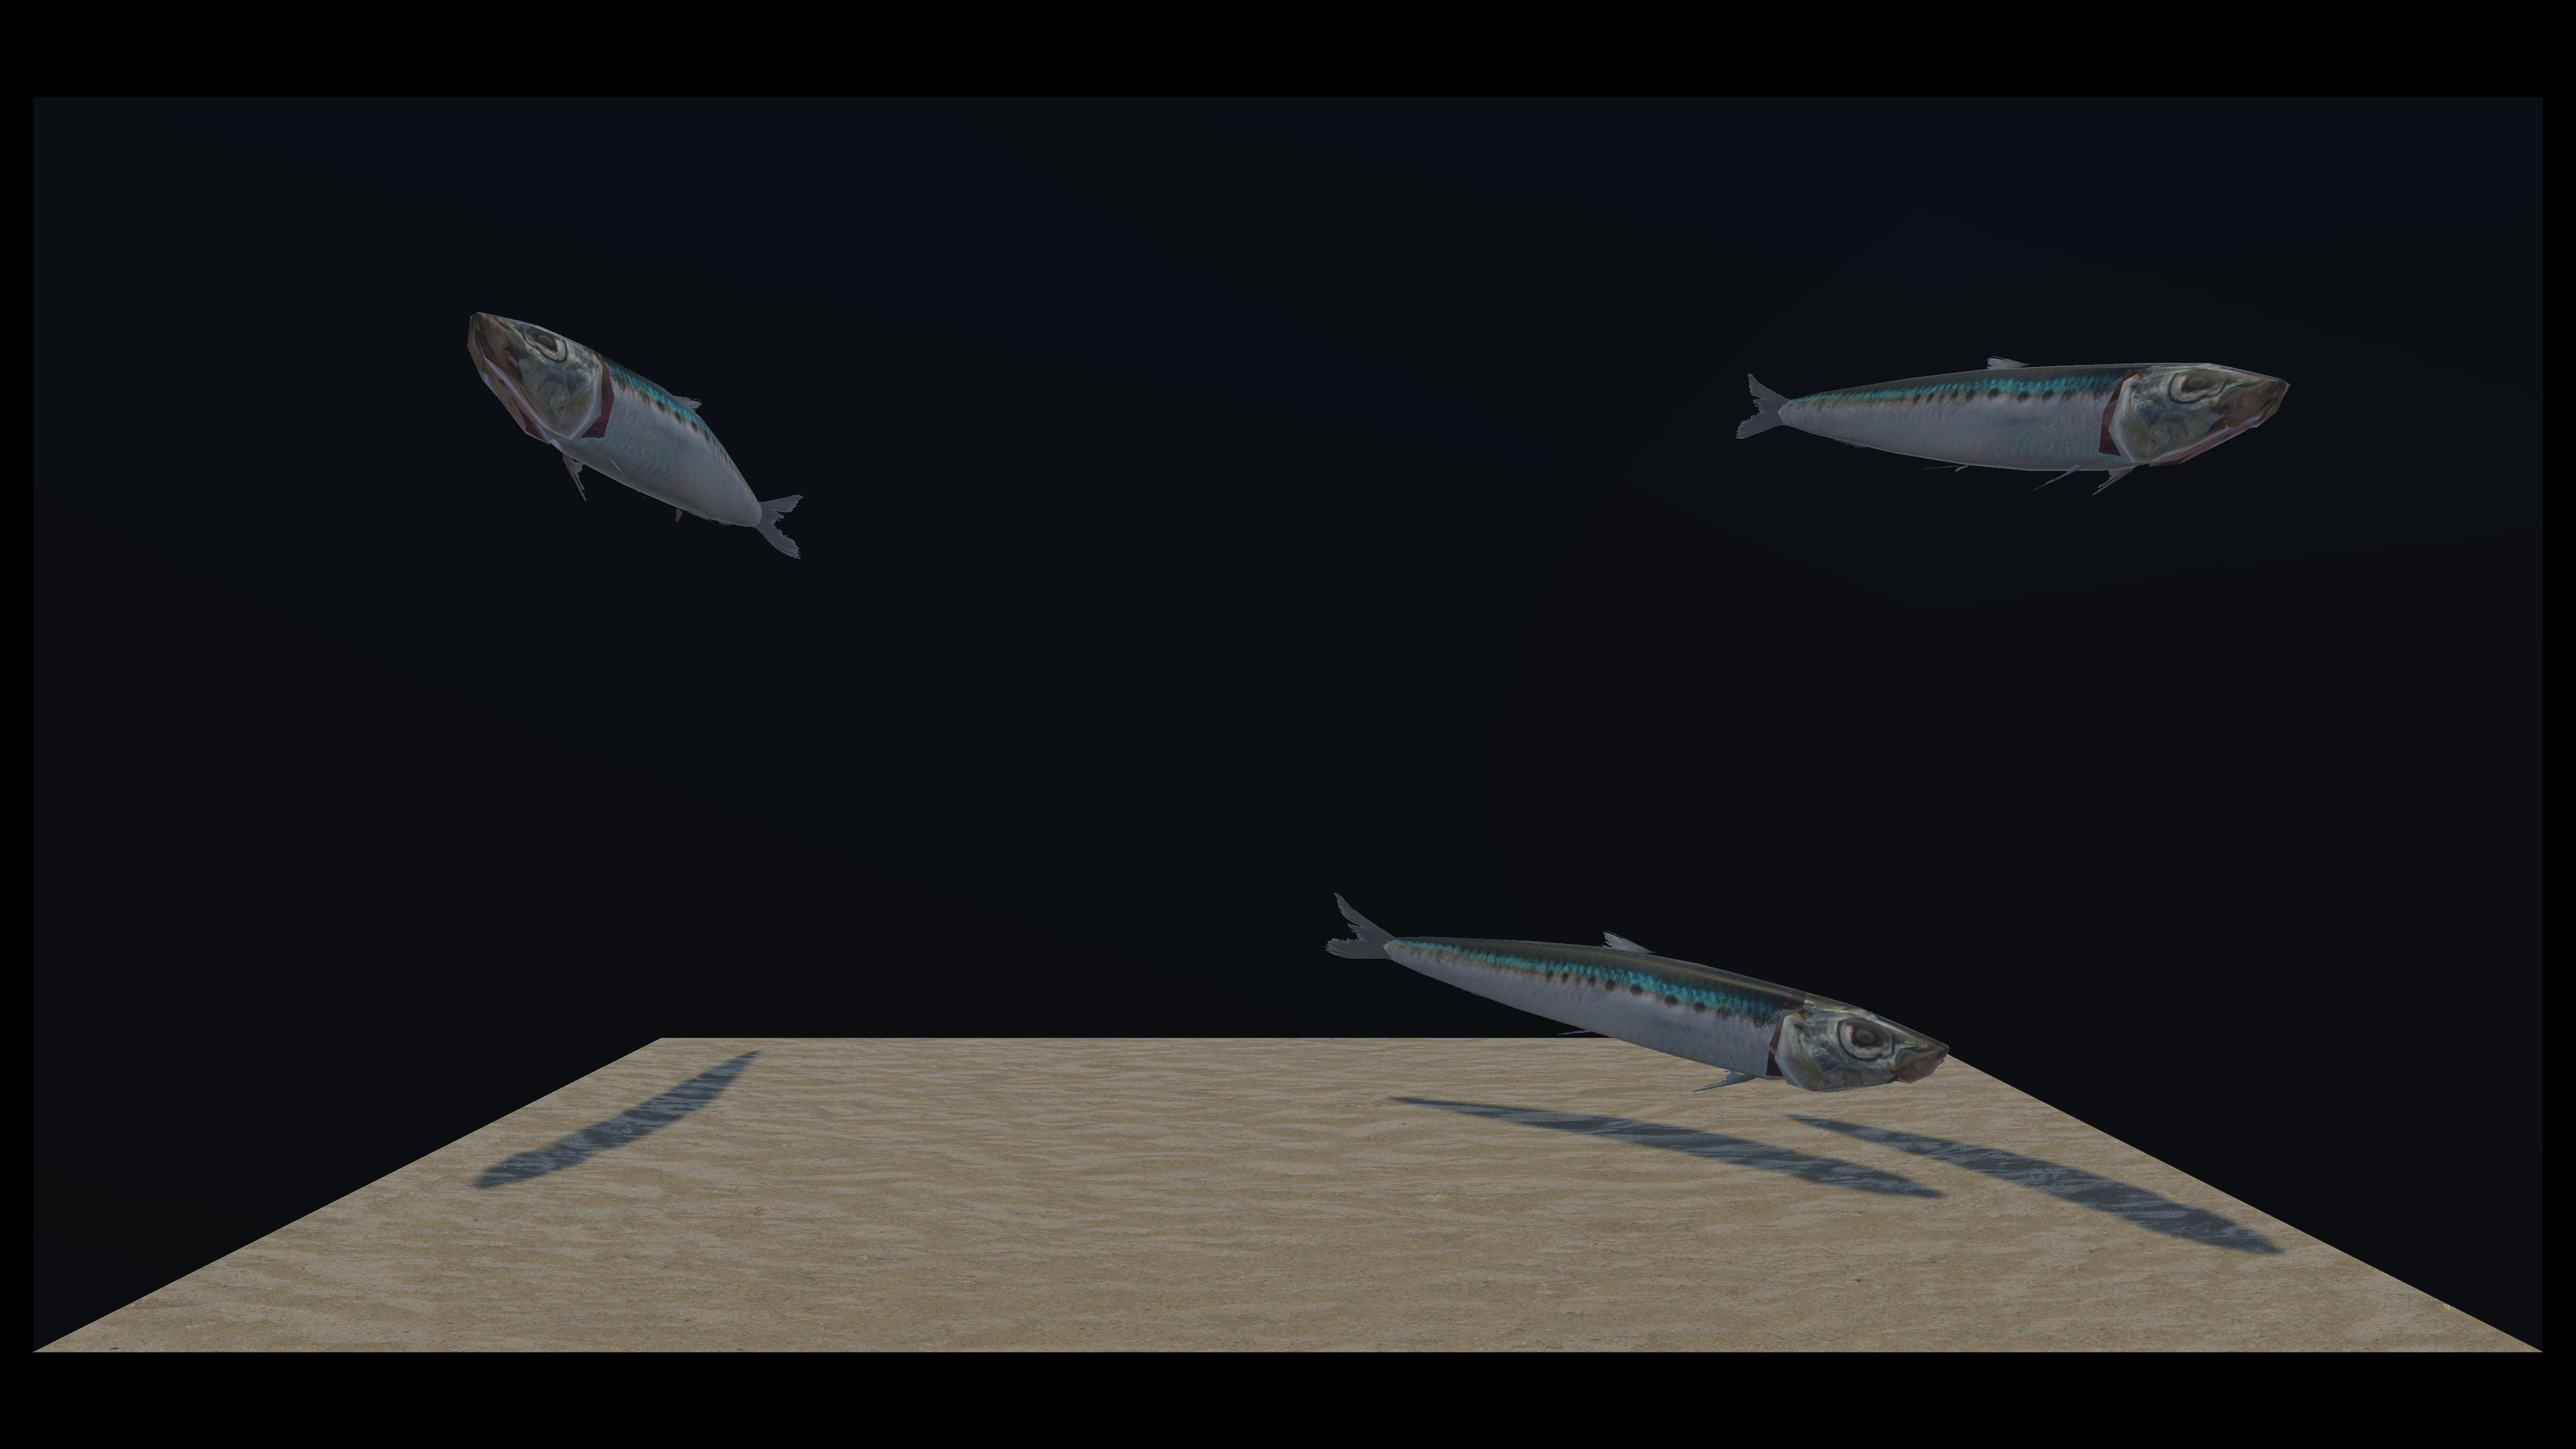Sardine_Front: (819, 386, 1941, 1104), (832, 345, 2277, 506), (481, 313, 798, 557)
